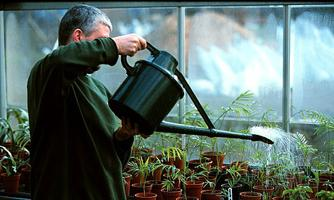person: (26, 5, 155, 200)
